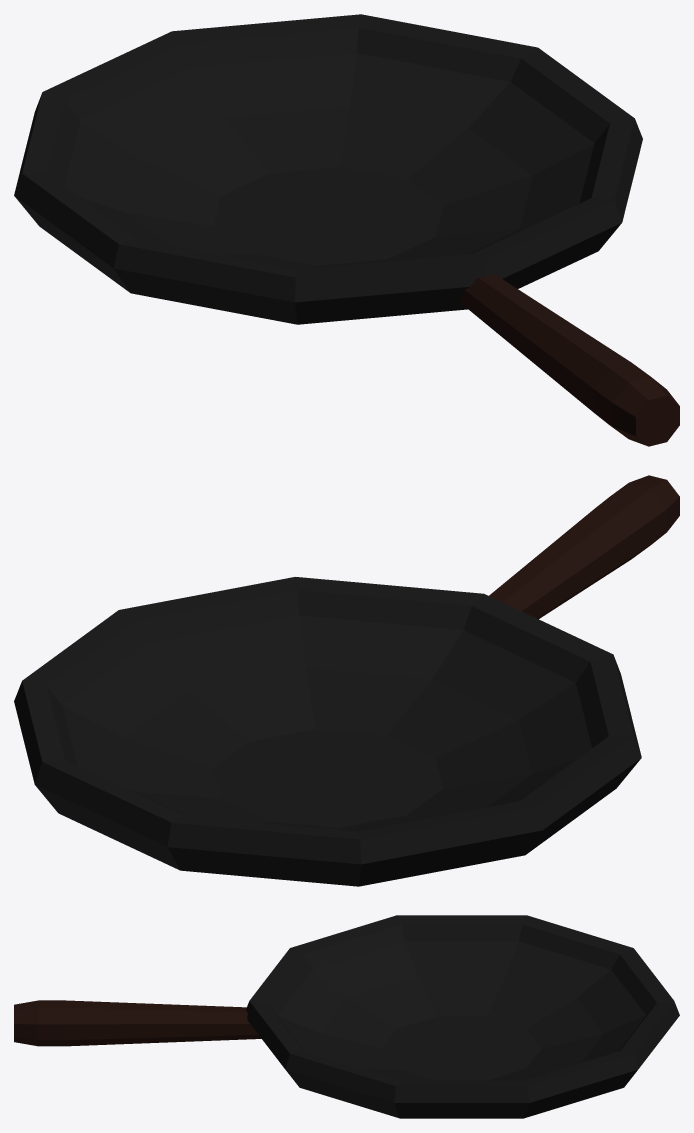
Rendered from FryingPan.obj.
The picture shows the model from 3 angles, top to bottom: view 1: azimuth 30°, elevation 25°; view 2: azimuth 150°, elevation 25°; view 3: azimuth 270°, elevation 25°; orthographic projection. The views are drawn at different scales.
Parts seen in each view (by area): view 1: FryingPan_Cylinder.021; view 2: FryingPan_Cylinder.021; view 3: FryingPan_Cylinder.021.
Part boxes in pixels (<box>): FryingPan_Cylinder.021: <box>14,14,679,446</box>; FryingPan_Cylinder.021: <box>14,475,679,886</box>; FryingPan_Cylinder.021: <box>14,915,679,1118</box>.
Size of the model in its own units: 1.74 by 0.253 by 2.79.
